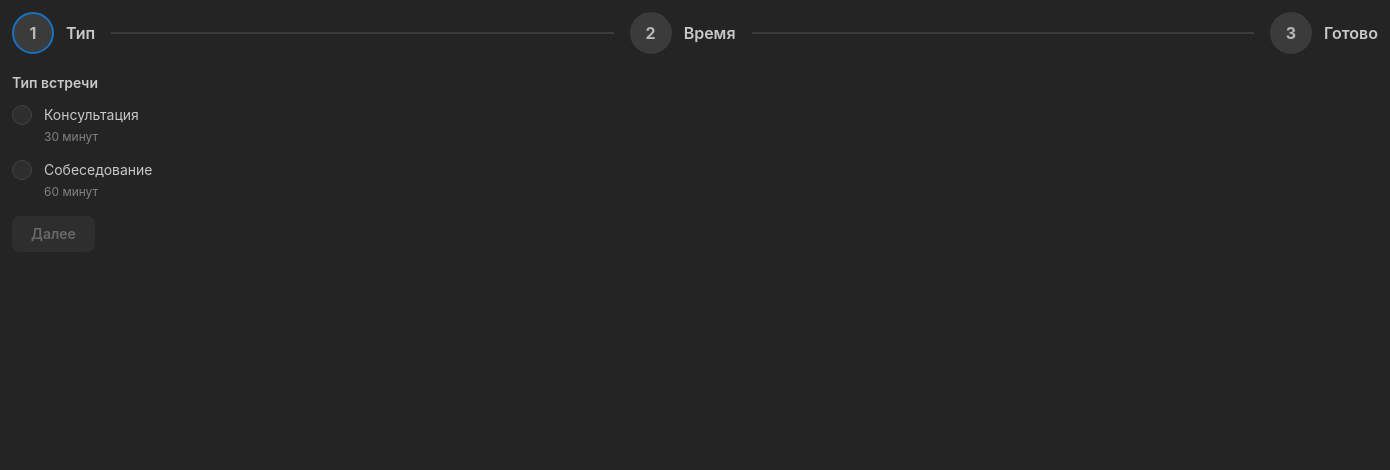
гостевой вид › счётчик свободных слотов виден в календаре
Click the radio button labelled "Консультация": (22, 115) [12,105,32,125]
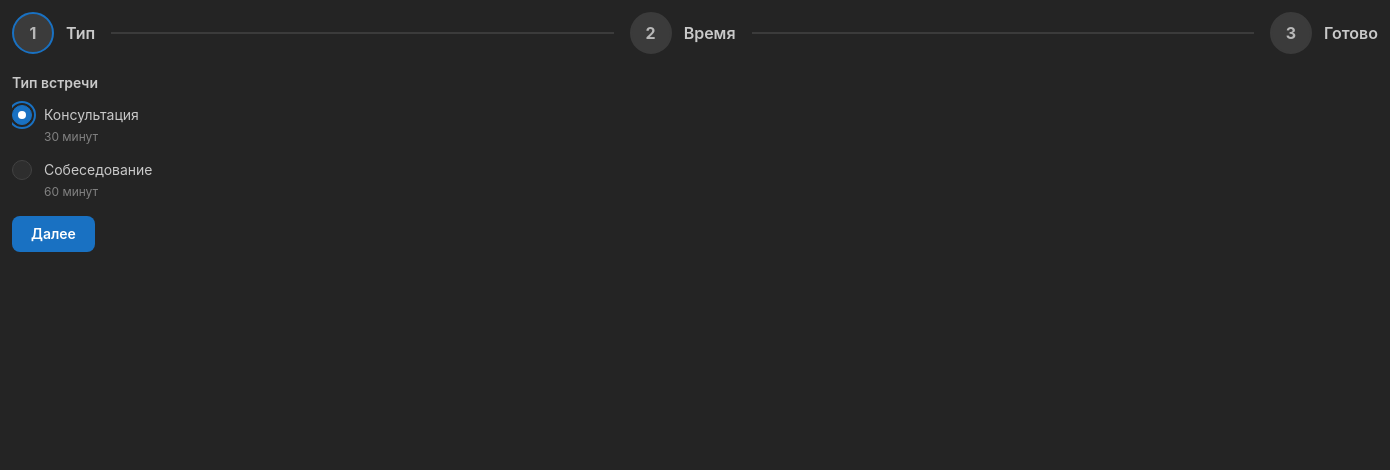
Click the button "Далее": (53, 234) [12,216,95,252]
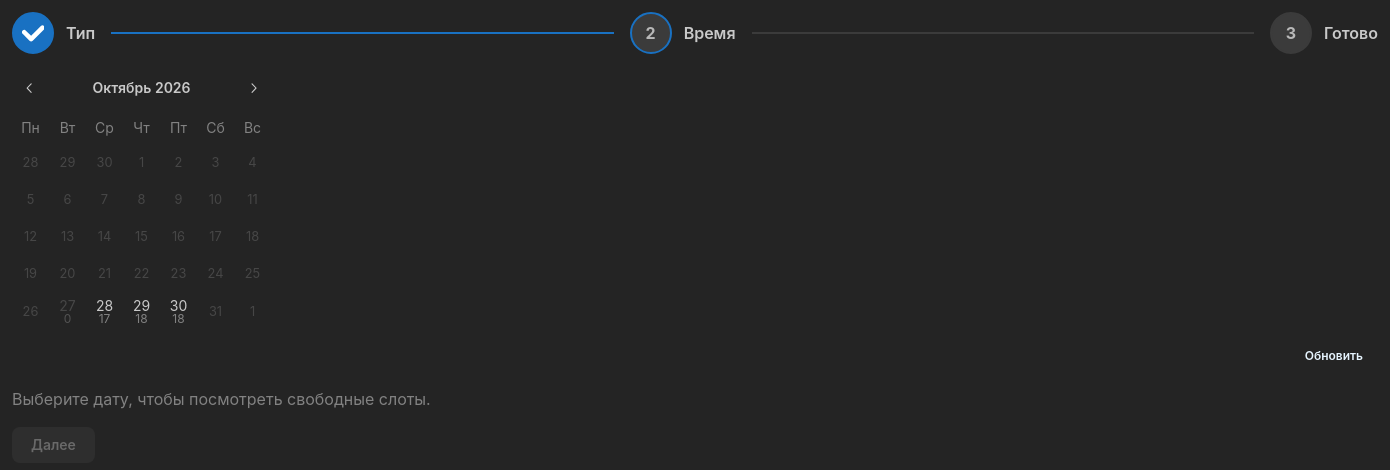
Now the button "28 17" is enabled, box [86,294,122,330]
